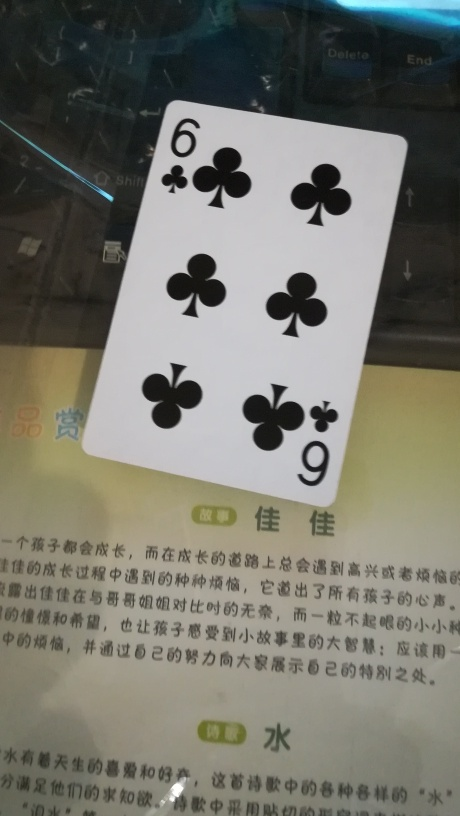mh 6: (77, 98, 410, 515)
